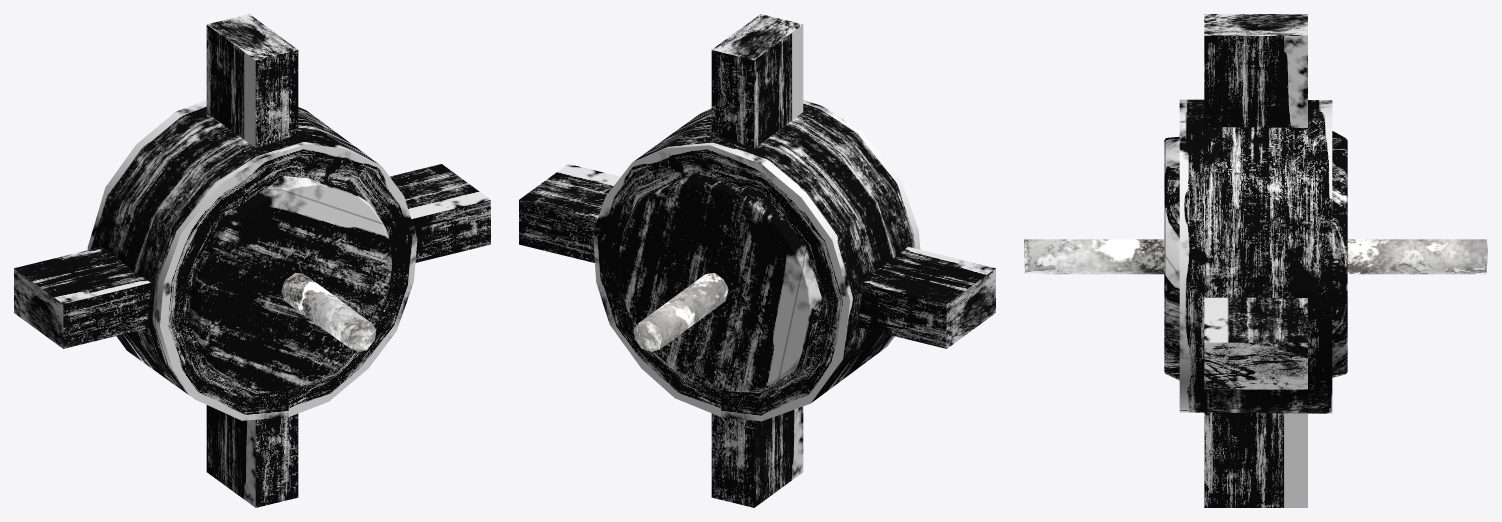
Rendered from SM_water_wheel_part_02.fbx.
The picture shows the model from 3 angles, left to right: view 1: azimuth 30°, elevation 25°; view 2: azimuth 150°, elevation 25°; view 3: azimuth 270°, elevation 25°; orthographic projection. The views are drawn at different scales.
Parts seen in each view (by area): view 1: SM_water_wheel_part_02_LOD0; view 2: SM_water_wheel_part_02_LOD0; view 3: SM_water_wheel_part_02_LOD0.
Boxes of the visible parts, box(x1,y1,x2,y2) form: SM_water_wheel_part_02_LOD0: box(14, 14, 490, 507); SM_water_wheel_part_02_LOD0: box(519, 14, 995, 507); SM_water_wheel_part_02_LOD0: box(1024, 14, 1487, 507).
Size of the model in its own units: 150 by 134 by 150.
Materials: 5 (5 with a texture image).
